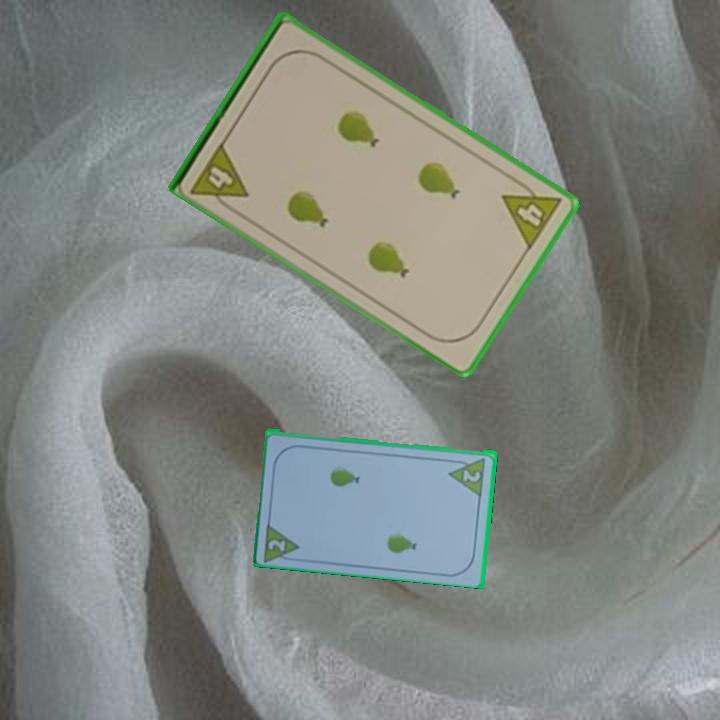2p: (265, 535, 289, 554), (459, 466, 483, 484)
4p: (498, 173, 565, 253), (187, 137, 251, 216)
